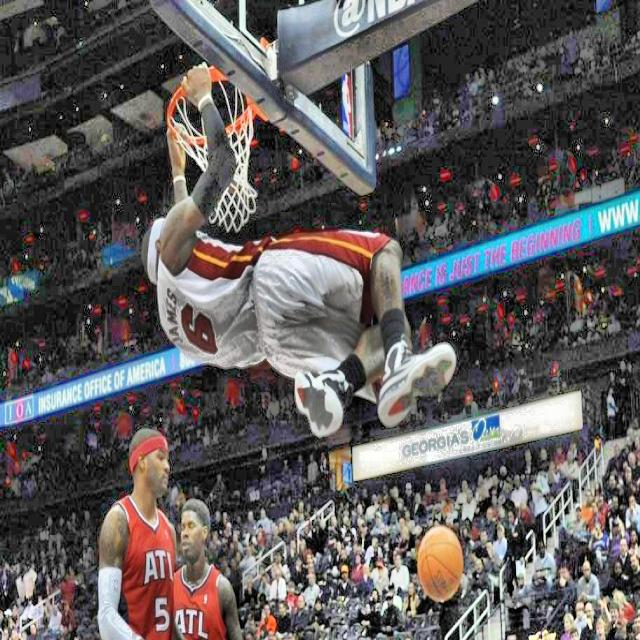board: (418, 526, 462, 602)
